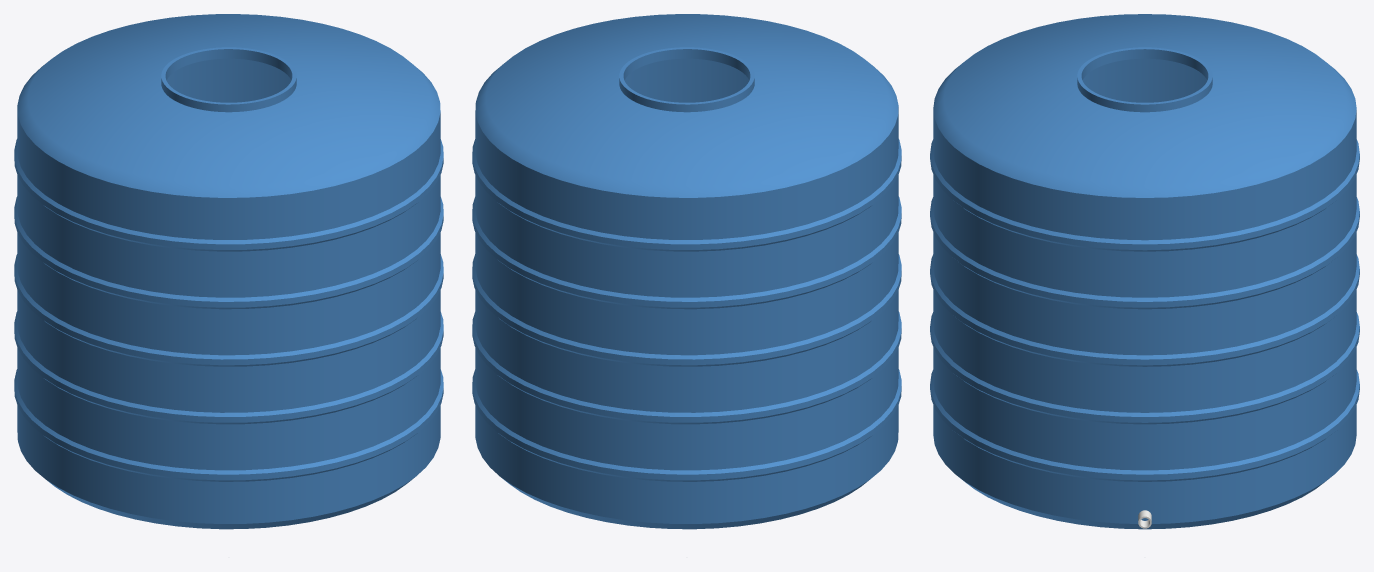
Rendered from HID-RES-004_anim.glb.
3 views of the same model, side by side, from view 1: azimuth 30°, elevation 25°; view 2: azimuth 150°, elevation 25°; view 3: azimuth 270°, elevation 25° (orthographic).
Parts seen in each view (by area): view 1: HID-RES-004_anim0; view 2: HID-RES-004_anim0; view 3: HID-RES-004_anim0.
Part boxes in pixels (x1,y1,x2,y2): HID-RES-004_anim0: (14,14,443,529); HID-RES-004_anim0: (472,14,901,529); HID-RES-004_anim0: (930,14,1359,529).
Size of the model in its own units: 2.11 by 2.51 by 2.03.
